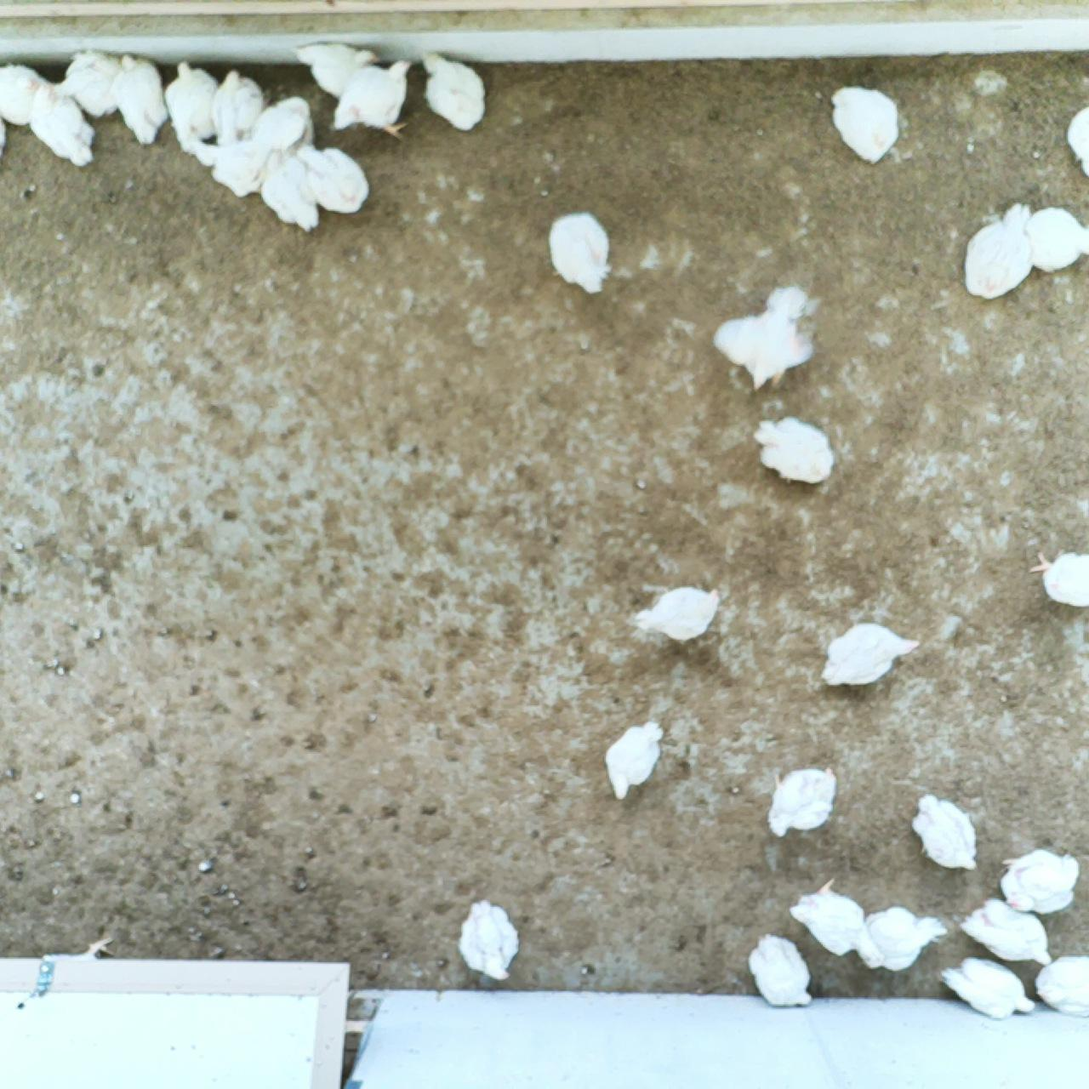chicken: (708, 282, 820, 396), (14, 70, 99, 171), (961, 198, 1038, 302), (786, 874, 875, 963), (814, 621, 926, 690), (331, 57, 415, 143), (956, 894, 1055, 966), (934, 955, 1035, 1023), (825, 82, 904, 167), (906, 788, 982, 875), (860, 902, 950, 975), (106, 49, 170, 150), (544, 208, 615, 299), (454, 893, 523, 984), (997, 845, 1084, 917), (750, 415, 836, 487), (418, 49, 490, 135), (294, 138, 372, 217), (765, 762, 842, 841), (286, 40, 380, 103), (633, 583, 721, 648), (600, 717, 665, 803), (747, 929, 816, 1010), (188, 135, 274, 197), (259, 149, 321, 235), (49, 50, 123, 121), (164, 57, 221, 147), (208, 66, 266, 148), (1022, 203, 1089, 273), (1025, 545, 1089, 610), (1034, 952, 1089, 1019), (255, 96, 315, 157), (0, 60, 46, 128), (1062, 102, 1089, 182)
